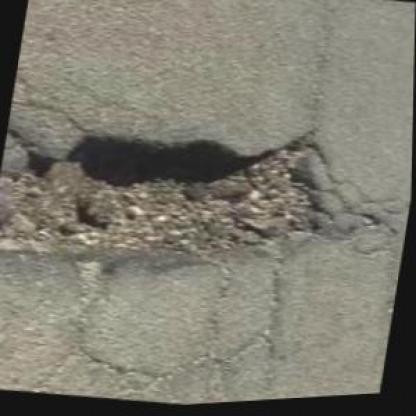pothole: (0, 86, 358, 304)
